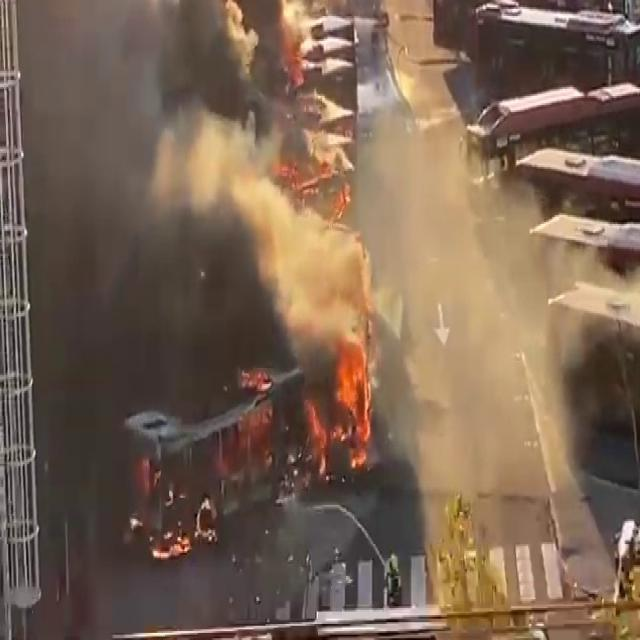Fire: (128, 368, 372, 553), (264, 116, 386, 237), (258, 8, 306, 92)
Smoke: (10, 7, 361, 398), (444, 119, 632, 514)
